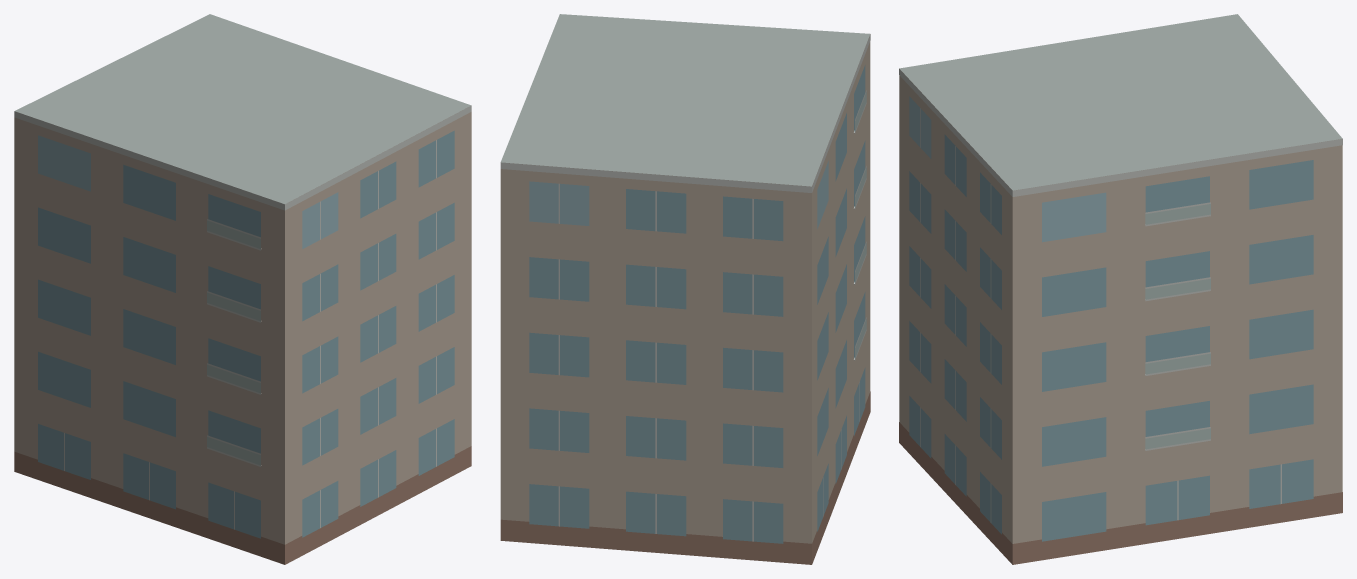
File: survey-upis-32850484.glb
3 renders of one model, left to right at view 1: azimuth 30°, elevation 25°; view 2: azimuth 150°, elevation 25°; view 3: azimuth 270°, elevation 25°, orthographic. The views are drawn at different scales.
Visible parts, largest first — view 1: survey-upis-32850484.tmp; view 2: survey-upis-32850484.tmp; view 3: survey-upis-32850484.tmp.
Boxes of the visible parts, left/top/right/bottom form: survey-upis-32850484.tmp: left=14, top=14, right=471, bottom=564; survey-upis-32850484.tmp: left=500, top=14, right=870, bottom=564; survey-upis-32850484.tmp: left=899, top=14, right=1342, bottom=564.
Size of the model in its own units: 14.23 by 14.05 by 15.1.
